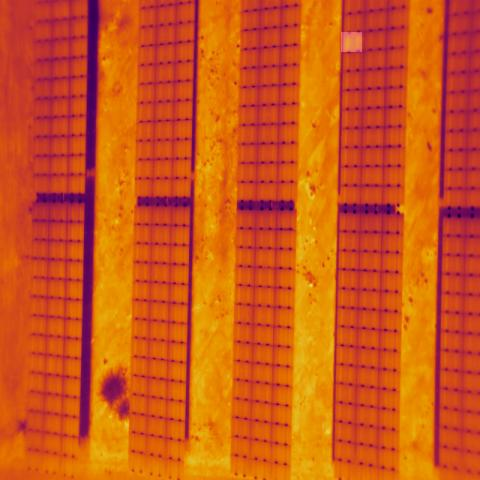fault: (341, 33, 362, 52)
